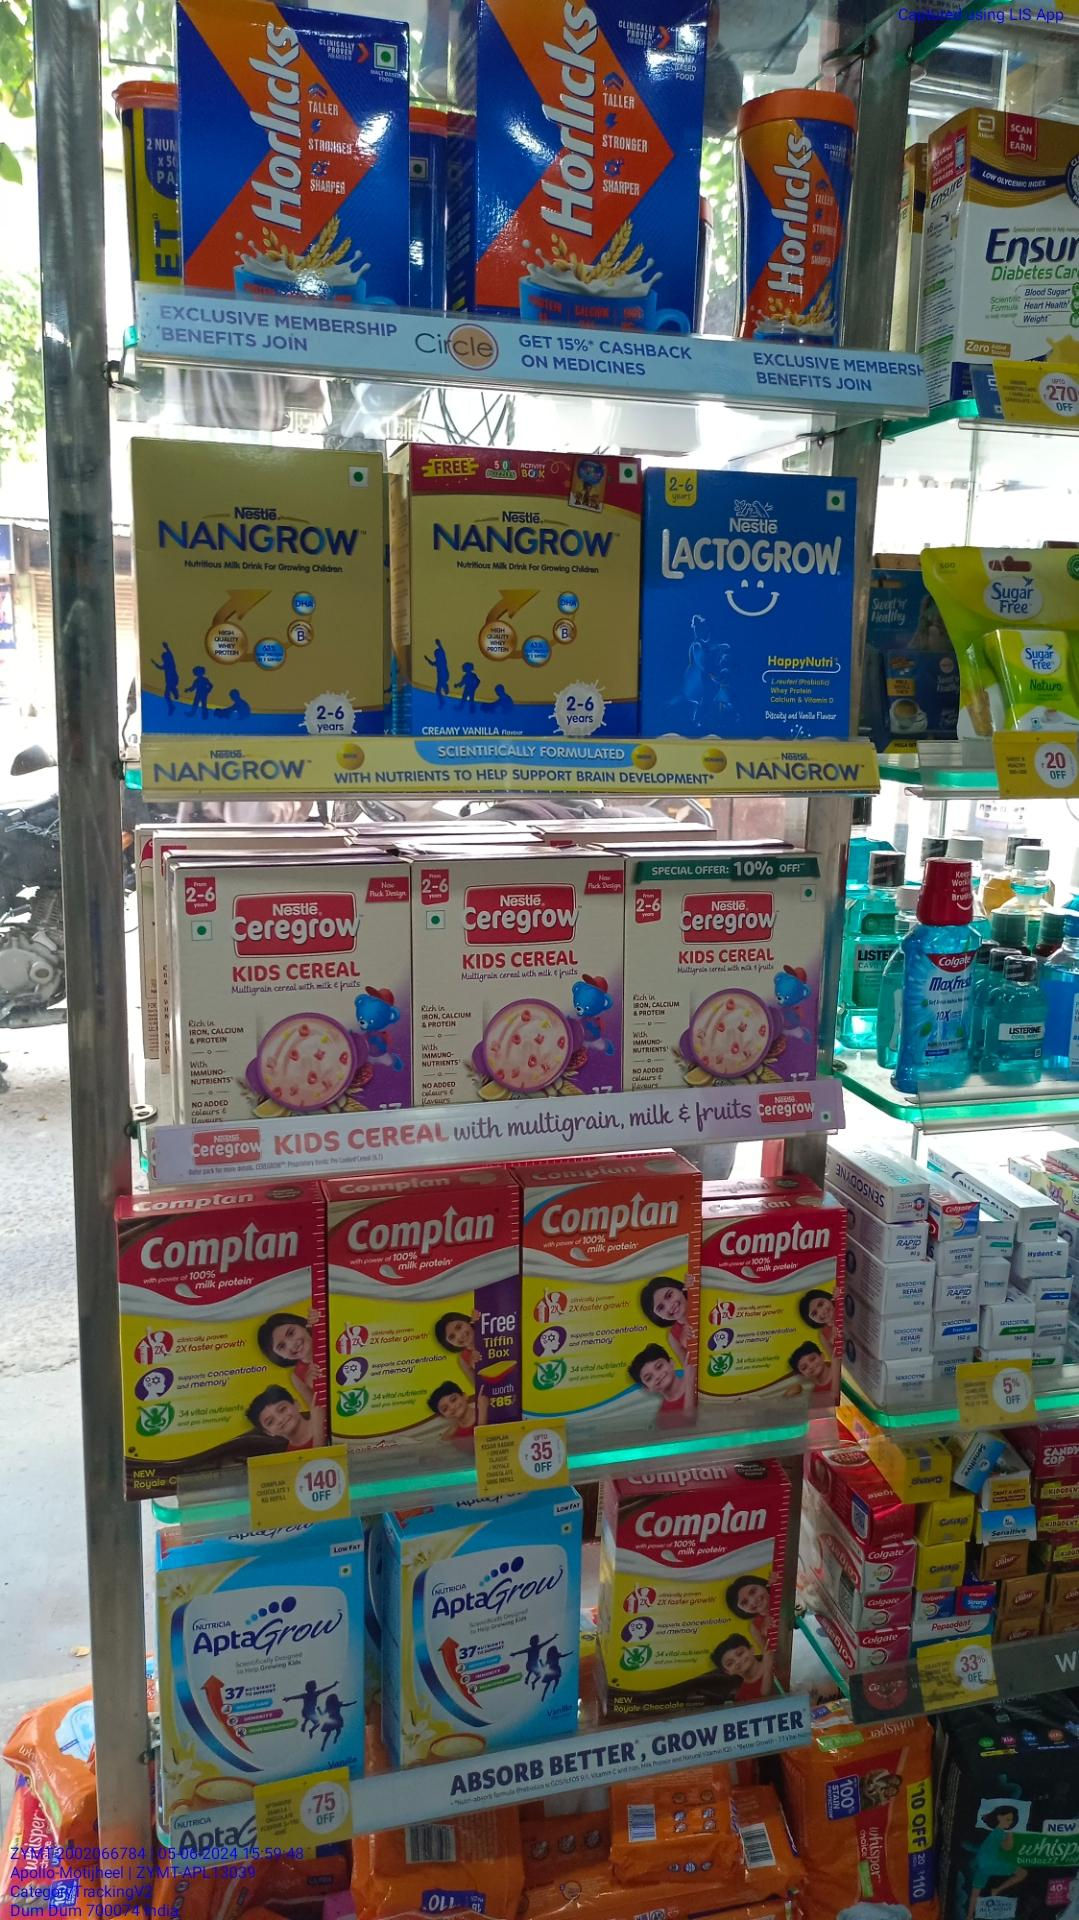COMPLAN_CHOCOLATE_500_GMS_PACK: (117, 1207, 328, 1477), (613, 1481, 781, 1713)
COMPLAN_CREAMY_CLASSIC_500_G_PACK: (532, 1175, 699, 1436)
COMPLAN_KESAR_BADAM_200_GMS_PACK: (708, 1213, 852, 1432)
COMPLAN_KESAR_BADAM_500_GMS_PACK: (330, 1193, 524, 1480)
HORLICK_CLASSIC_MALT_500_G_JAR: (737, 91, 849, 343)
HORLICK_CLASSIC_MALT_500_G_PACK: (169, 5, 412, 298)
